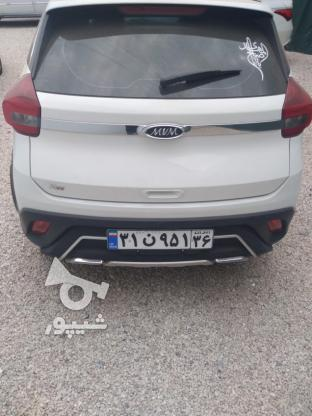car: (106, 228, 213, 246)
